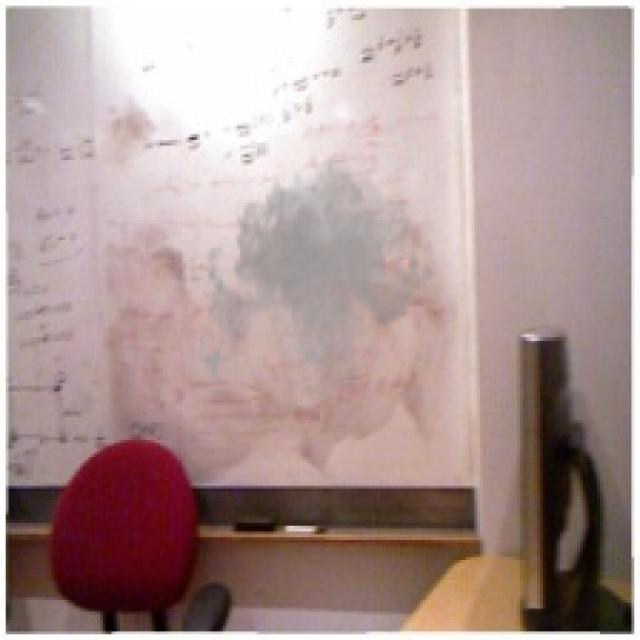smoke: (192, 149, 437, 420)
